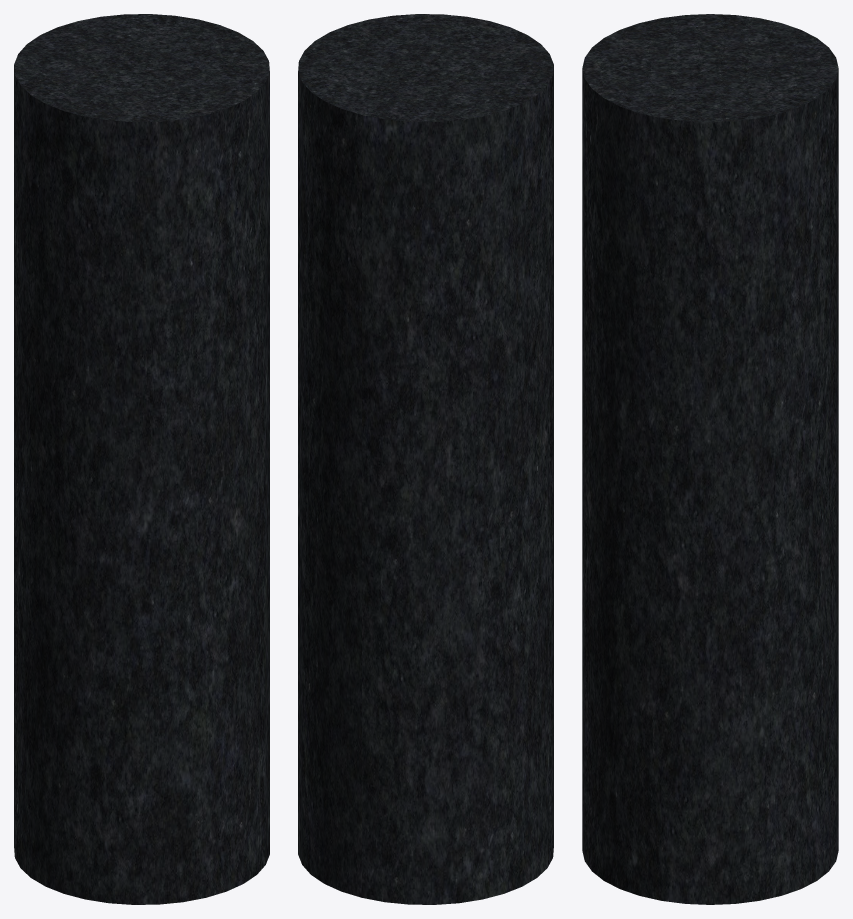
The model's file is SimplePillar-bgranite.glb.
The picture shows the model from 3 angles, left to right: view 1: azimuth 30°, elevation 25°; view 2: azimuth 150°, elevation 25°; view 3: azimuth 270°, elevation 25°; orthographic projection.
Visible parts, largest first — view 1: Pillar; view 2: Pillar; view 3: Pillar.
Part boxes in pixels (bbox=[...]): Pillar: bbox=[14, 14, 269, 904]; Pillar: bbox=[298, 14, 553, 904]; Pillar: bbox=[582, 14, 838, 904].
Size of the model in its own units: 0.8903 by 3 by 0.8903.
Materials: 1 (1 with a texture image).
